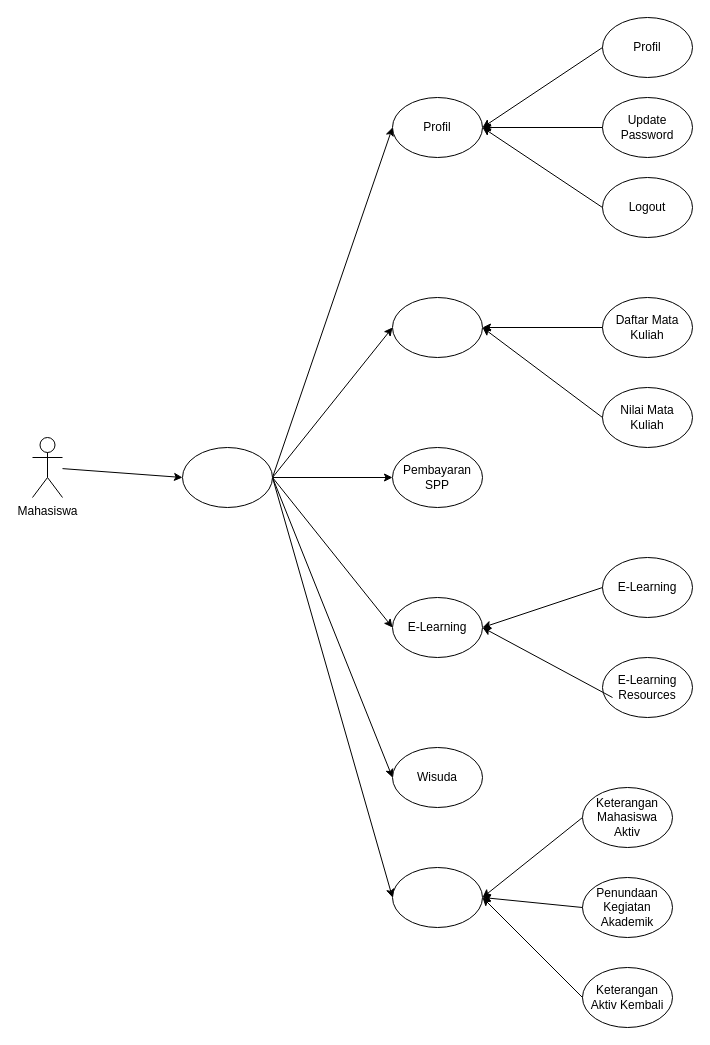
Some shapes in this 710 by 1045 pixel diagram are drawn without their labels. The shapes that lost their labels are listed below. From the top down, each one's box as (x1, y1, x2, y2) in pixels, then its label:
(392, 296, 482, 358): Mata Kuliah
(182, 446, 272, 508): Login
(392, 866, 482, 928): Layanan Surat
